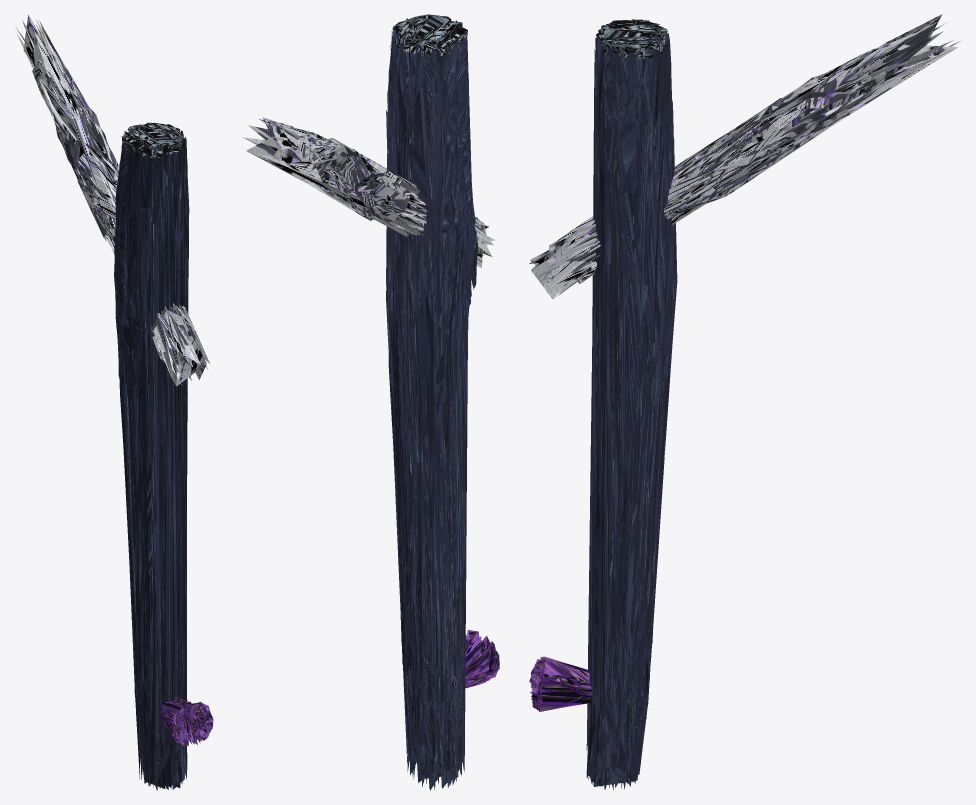
3 views of the same model, side by side, from view 1: azimuth 30°, elevation 25°; view 2: azimuth 150°, elevation 25°; view 3: azimuth 270°, elevation 25° (orthographic). The views are drawn at different scales.
Parts seen in each view (by area): view 1: tripo_part_5, tripo_part_1, tripo_part_0, tripo_part_3; view 2: tripo_part_5, tripo_part_1, tripo_part_3, tripo_part_0; view 3: tripo_part_5, tripo_part_1, tripo_part_0, tripo_part_3.
Boxes of the visible parts, box(x1,y1,x2,y2) form: tripo_part_5: box(114, 123, 189, 790); tripo_part_1: box(16, 14, 209, 386); tripo_part_0: box(160, 696, 213, 746); tripo_part_3: box(121, 122, 183, 158); tripo_part_5: box(386, 16, 477, 790); tripo_part_1: box(243, 117, 495, 267); tripo_part_3: box(393, 14, 467, 56); tripo_part_0: box(465, 630, 499, 688); tripo_part_5: box(586, 23, 677, 789); tripo_part_1: box(529, 14, 959, 298); tripo_part_0: box(529, 656, 591, 711); tripo_part_3: box(596, 19, 667, 59).
Bounding box in the file's own units: 0.098 × 0.9671 × 0.4903.
Materials: 4 (4 with a texture image).
